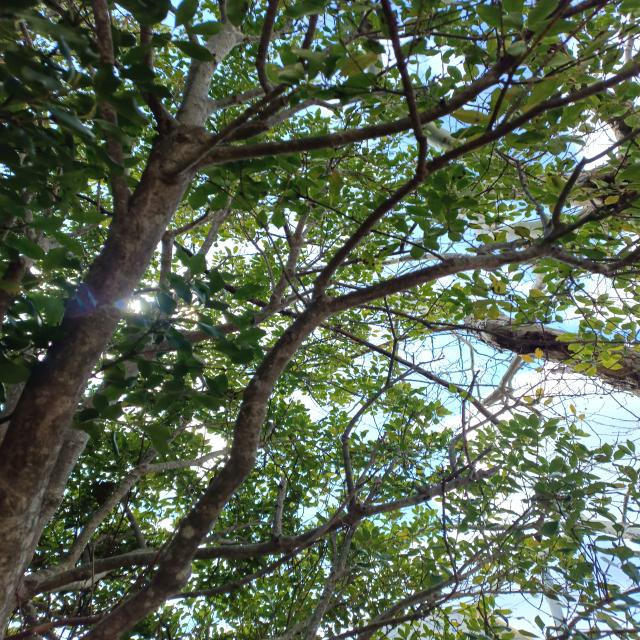Branch: (80, 225, 559, 638), (0, 26, 244, 620), (206, 0, 572, 167), (48, 464, 503, 591), (138, 0, 178, 132)
Twig: (311, 59, 640, 302), (168, 13, 319, 172), (356, 508, 529, 640), (326, 478, 459, 639), (63, 449, 231, 565), (341, 371, 414, 504), (553, 128, 640, 228), (449, 397, 538, 479), (304, 525, 354, 639), (540, 195, 638, 246), (497, 150, 549, 233), (462, 533, 534, 576), (255, 0, 282, 104), (544, 245, 640, 273)
